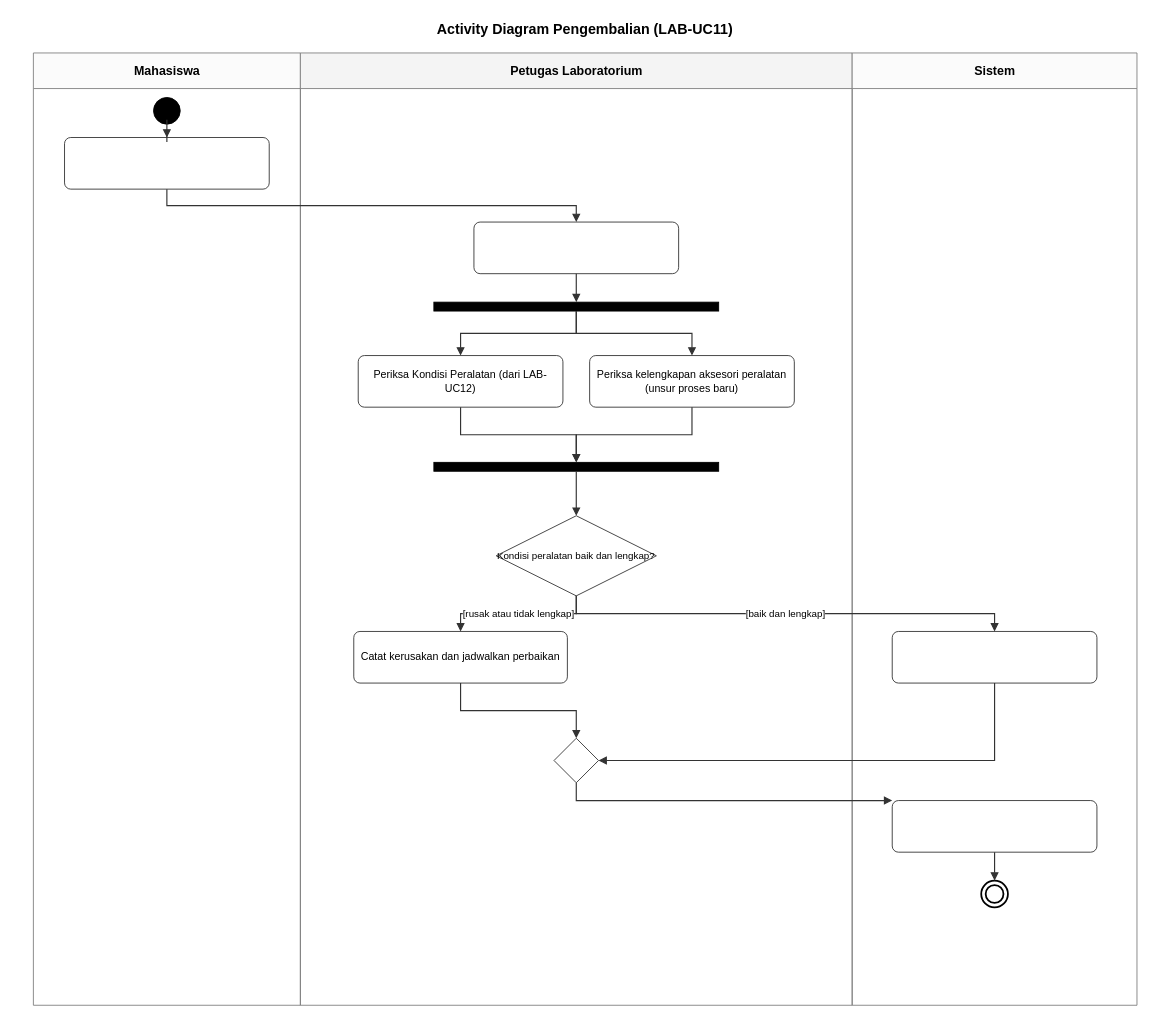
The diagram is 1169 pixels wide and 1021 high, and some of its shapes have lost their labels. Here are the shapes that lost their labels. From the top down, the centre of each, then its label:
At pixel 166 163: "Menyerahkan peralatan yang dipinjam".
At pixel 576 247: "Catat Pengembalian Peralatan (LAB-UC11)".
At pixel 994 657: "Perbarui status peralatan menjadi tersedia".
At pixel 994 826: "Menutup transaksi peminjaman".
